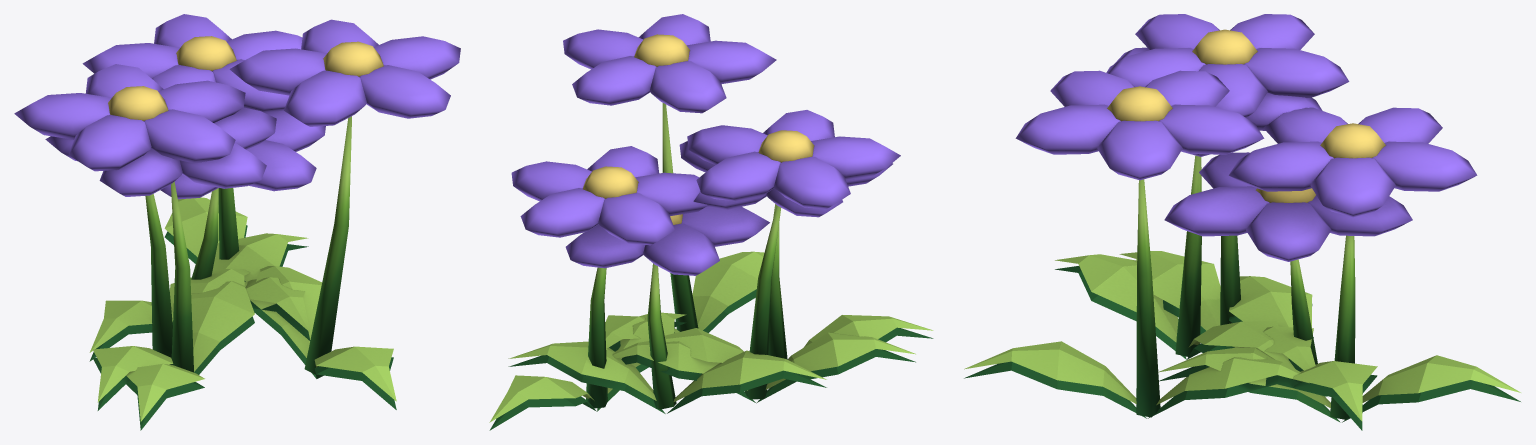
File: Env_Flowers_3.glb
3 views of the same model, side by side, from view 1: azimuth 30°, elevation 25°; view 2: azimuth 150°, elevation 25°; view 3: azimuth 270°, elevation 25° (orthographic). The views are drawn at different scales.
Parts seen in each view (by area): view 1: Env_Flowers_3.001; view 2: Env_Flowers_3.001; view 3: Env_Flowers_3.001.
Part boxes in pixels (bbox=[...]): Env_Flowers_3.001: bbox=[14, 14, 460, 430]; Env_Flowers_3.001: bbox=[489, 14, 933, 430]; Env_Flowers_3.001: bbox=[964, 14, 1520, 430].
Bounding box in the file's own units: 1.3 × 1.09 × 1.6.
Materials: 1 (1 with a texture image).
